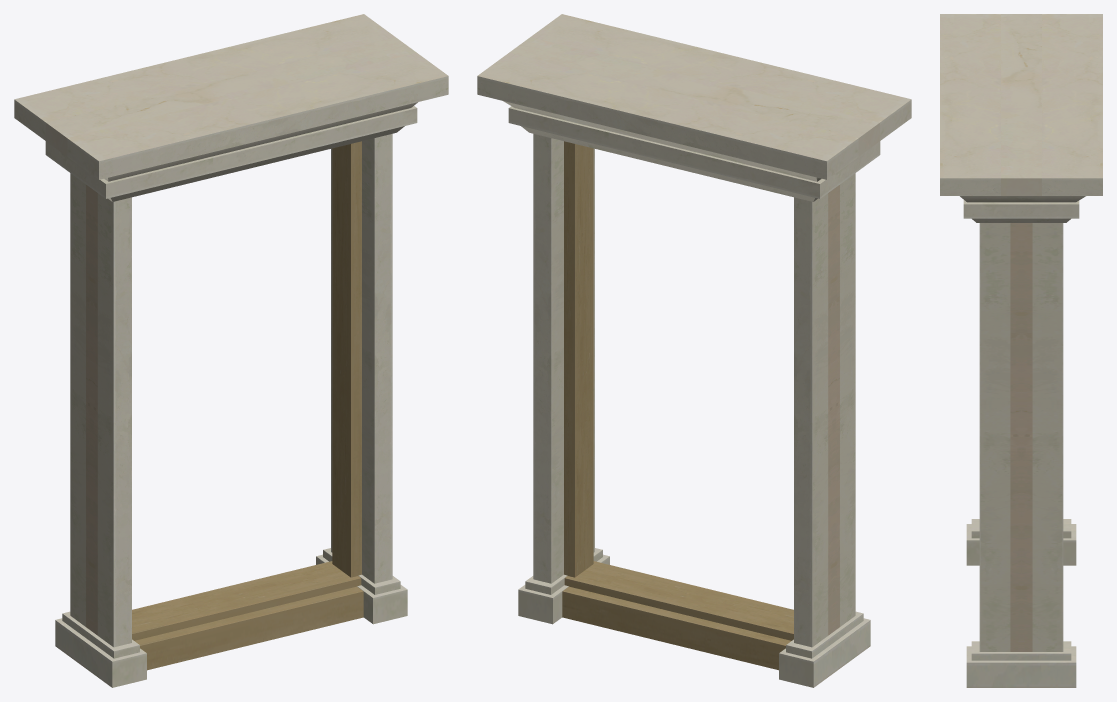
File: Homeworld_Interior_Fd_Room_Door_01_01_Vo.fbx
3 views of the same model, side by side, from view 1: azimuth 30°, elevation 25°; view 2: azimuth 150°, elevation 25°; view 3: azimuth 270°, elevation 25° (orthographic). The views are drawn at different scales.
Visible parts, largest first — view 1: Homeworld_Interior_Fd_Room_Door_01_01_Vo; view 2: Homeworld_Interior_Fd_Room_Door_01_01_Vo; view 3: Homeworld_Interior_Fd_Room_Door_01_01_Vo.
Boxes of the visible parts, x1=… form: Homeworld_Interior_Fd_Room_Door_01_01_Vo: x1=14, y1=14, x2=448, y2=687; Homeworld_Interior_Fd_Room_Door_01_01_Vo: x1=477, y1=14, x2=911, y2=687; Homeworld_Interior_Fd_Room_Door_01_01_Vo: x1=940, y1=14, x2=1102, y2=687.
Size of the model in its own units: 2.69 by 4 by 1.13.
